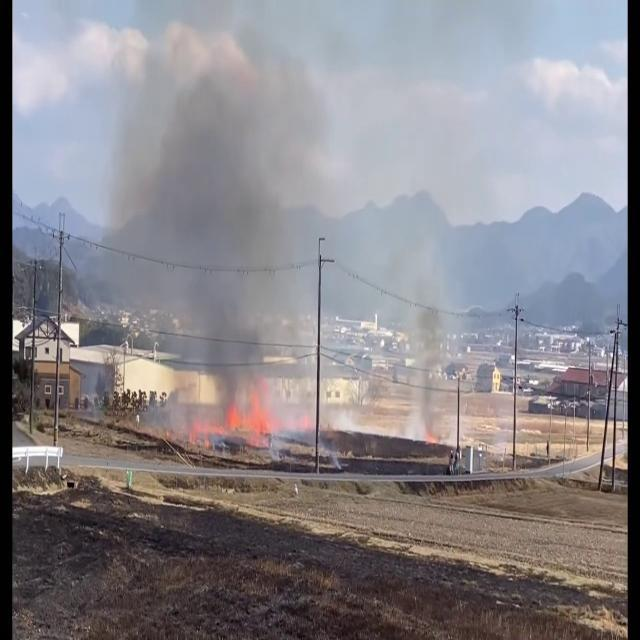Fire: (224, 398, 276, 448)
Smoke: (92, 6, 324, 437), (392, 208, 462, 434)
